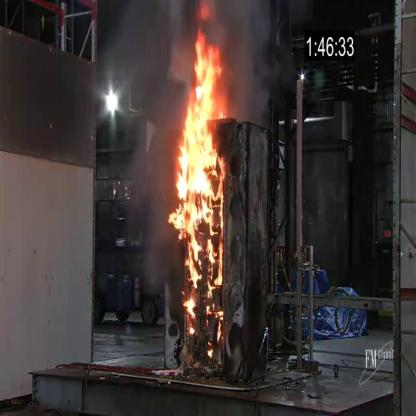fire: (164, 20, 231, 368)
